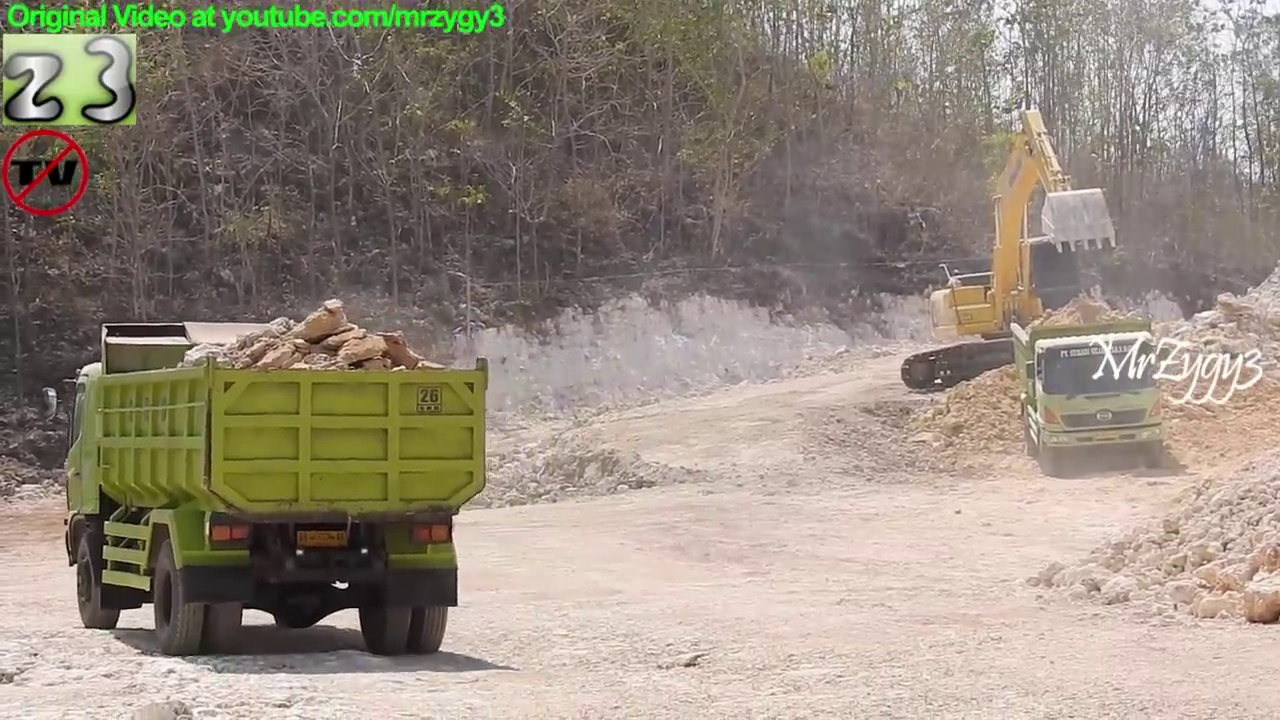excavator: (898, 96, 1147, 395)
truck: (36, 317, 491, 659), (1007, 310, 1177, 478)
